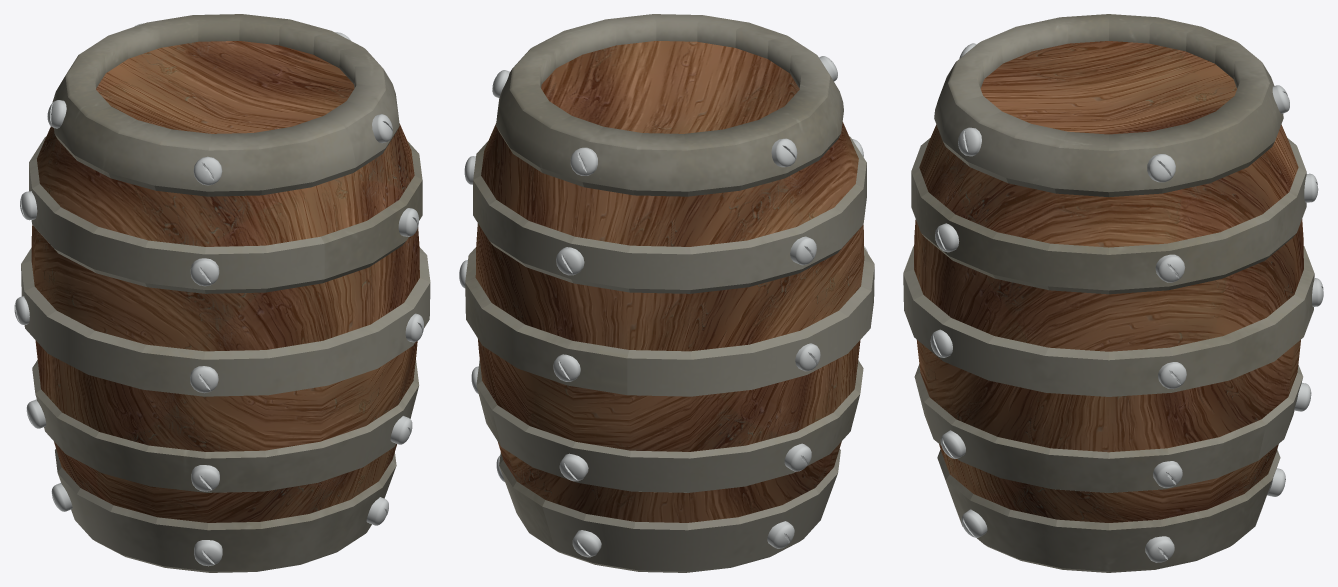
The model's file is barrel.fbx.
The picture shows the model from 3 angles, left to right: view 1: azimuth 30°, elevation 25°; view 2: azimuth 150°, elevation 25°; view 3: azimuth 270°, elevation 25°; orthographic projection.
Parts seen in each view (by area): view 1: barrel, table_screw31, table_screw36, table_screw21, table_screw26, table_screw12; view 2: barrel, table_screw19, table_screw18, table_screw16, table_screw17, table_screw35, table_screw30, table_screw10, table_screw20, table_screw25, table_screw11; view 3: barrel, table_screw38, table_screw33, table_screw23, table_screw28, table_screw14, table_screw37, table_screw32, table_screw27, table_screw22.
Boxes of the visible parts, left/top/right/bottom form: barrel: left=21, top=14, right=430, bottom=572; table_screw31: left=190, top=258, right=219, bottom=286; table_screw36: left=193, top=156, right=222, bottom=185; table_screw21: left=191, top=465, right=219, bottom=491; table_screw26: left=194, top=540, right=222, bottom=566; table_screw12: left=190, top=366, right=218, bottom=392; barrel: left=465, top=14, right=874, bottom=572; table_screw19: left=570, top=147, right=597, bottom=175; table_screw18: left=556, top=247, right=584, bottom=275; table_screw16: left=559, top=453, right=588, bottom=481; table_screw17: left=572, top=530, right=601, bottom=557; table_screw35: left=771, top=138, right=797, bottom=167; table_screw30: left=790, top=236, right=816, bottom=265; table_screw10: left=553, top=354, right=580, bottom=381; table_screw20: left=784, top=443, right=811, bottom=471; table_screw25: left=767, top=521, right=794, bottom=548; table_screw11: left=795, top=343, right=820, bottom=371; barrel: left=903, top=14, right=1314, bottom=572; table_screw38: left=1147, top=154, right=1175, bottom=182; table_screw33: left=1155, top=254, right=1185, bottom=282; table_screw23: left=1153, top=461, right=1182, bottom=487; table_screw28: left=1145, top=536, right=1174, bottom=562; table_screw14: left=1158, top=362, right=1186, bottom=388; table_screw37: left=958, top=127, right=981, bottom=156; table_screw32: left=935, top=223, right=959, bottom=252; table_screw27: left=961, top=509, right=987, bottom=537; table_screw22: left=940, top=430, right=965, bottom=458.
Size of the model in its own units: 2.31 by 2.68 by 2.36.
